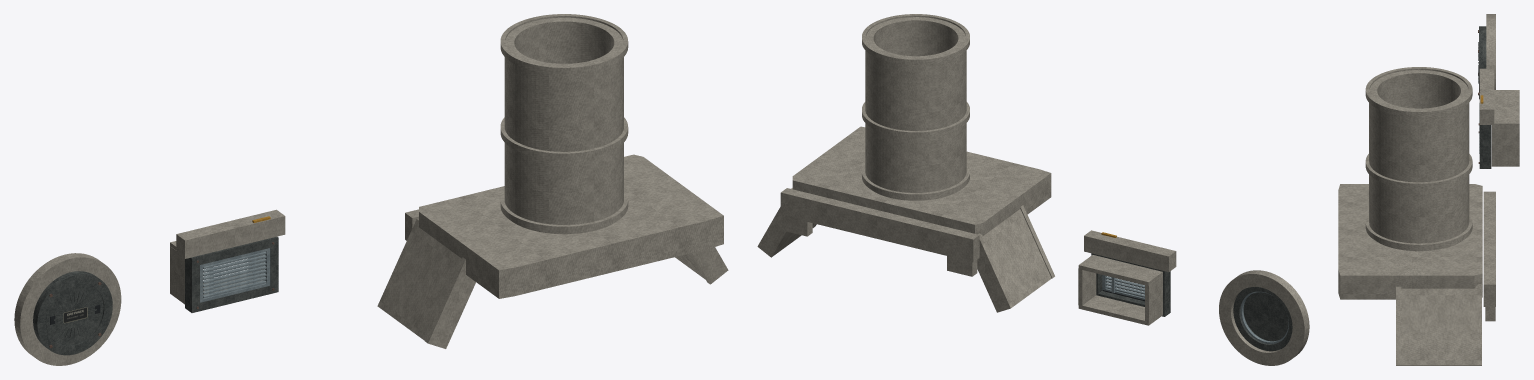
File: PROJECT_Z_Drainage_Manhole_Kit.glb
3 views of the same model, side by side, from view 1: azimuth 30°, elevation 25°; view 2: azimuth 150°, elevation 25°; view 3: azimuth 270°, elevation 25° (orthographic). The views are drawn at different scales.
Visible parts, largest first — view 1: CULVERT_02_HOLLOW_1p30m_Concrete_Pipe_Barrel, CULVERT_01_HOLLOW_Precast_Headwall_Round_Opening, CULVERT_04_Left_Splayed_Wingwall, MANHOLE_01_Precast_Concrete_Setting_Collar, DRAIN_06_Separate_Concrete_Edge_Curb, DRAIN_04_REMOVABLE_Slotted_Grille__PIVOT_CENTER, DRAIN_01_Cast_Iron_Recessed_Seat_Frame, MANHOLE_02_Cast_Iron_Rim_Frame, MANHOLE_05_REMOVABLE_Cast_Iron_Cover__PIVOT_CENTER, CULVERT_03_Pipe_Collar_03, CULVERT_06_Left_Wingwall_Coping, CULVERT_03_Pipe_Collar_01 (+4 smaller); view 2: CULVERT_02_HOLLOW_1p30m_Concrete_Pipe_Barrel, CULVERT_01_HOLLOW_Precast_Headwall_Round_Opening, CULVERT_08_Concrete_Headwall_Toe_Foundation, CULVERT_04_Left_Splayed_Wingwall, MANHOLE_01_Precast_Concrete_Setting_Collar, DRAIN_02_Concrete_Catchpit_Walls, DRAIN_06_Separate_Concrete_Edge_Curb, MANHOLE_05_REMOVABLE_Cast_Iron_Cover__PIVOT_CENTER, CULVERT_03_Pipe_Collar_03, MANHOLE_02_Cast_Iron_Rim_Frame, CULVERT_03_Pipe_Collar_02, CULVERT_03_Pipe_Collar_01 (+3 smaller); view 3: CULVERT_02_HOLLOW_1p30m_Concrete_Pipe_Barrel, CULVERT_01_HOLLOW_Precast_Headwall_Round_Opening, CULVERT_05_Right_Splayed_Wingwall, DRAIN_02_Concrete_Catchpit_Walls, CULVERT_08_Concrete_Headwall_Toe_Foundation, CULVERT_03_Pipe_Collar_03, CULVERT_03_Pipe_Collar_01, CULVERT_03_Pipe_Collar_02, DRAIN_06_Separate_Concrete_Edge_Curb, MANHOLE_01_Precast_Concrete_Setting_Collar, DRAIN_01_Cast_Iron_Recessed_Seat_Frame, CULVERT_07_Right_Wingwall_Coping (+1 smaller).
Boxes of the visible parts, x1=… form: CULVERT_02_HOLLOW_1p30m_Concrete_Pipe_Barrel: x1=504, y1=17, x2=623, y2=234; CULVERT_01_HOLLOW_Precast_Headwall_Round_Opening: x1=419, y1=154, x2=723, y2=298; CULVERT_04_Left_Splayed_Wingwall: x1=377, y1=219, x2=461, y2=340; MANHOLE_01_Precast_Concrete_Setting_Collar: x1=14, y1=253, x2=121, y2=365; DRAIN_06_Separate_Concrete_Edge_Curb: x1=176, y1=209, x2=285, y2=258; DRAIN_04_REMOVABLE_Slotted_Grille__PIVOT_CENTER: x1=200, y1=248, x2=270, y2=302; DRAIN_01_Cast_Iron_Recessed_Seat_Frame: x1=185, y1=236, x2=278, y2=312; MANHOLE_02_Cast_Iron_Rim_Frame: x1=33, y1=271, x2=112, y2=355; MANHOLE_05_REMOVABLE_Cast_Iron_Cover__PIVOT_CENTER: x1=45, y1=283, x2=103, y2=345; CULVERT_03_Pipe_Collar_03: x1=500, y1=14, x2=628, y2=74; CULVERT_06_Left_Wingwall_Coping: x1=425, y1=257, x2=475, y2=348; CULVERT_03_Pipe_Collar_01: x1=500, y1=190, x2=628, y2=232; CULVERT_02_HOLLOW_1p30m_Concrete_Pipe_Barrel: x1=865, y1=17, x2=966, y2=200; CULVERT_01_HOLLOW_Precast_Headwall_Round_Opening: x1=792, y1=126, x2=1051, y2=235; CULVERT_08_Concrete_Headwall_Toe_Foundation: x1=780, y1=188, x2=979, y2=276; CULVERT_04_Left_Splayed_Wingwall: x1=977, y1=209, x2=1051, y2=312; MANHOLE_01_Precast_Concrete_Setting_Collar: x1=1219, y1=270, x2=1309, y2=365; DRAIN_02_Concrete_Catchpit_Walls: x1=1078, y1=255, x2=1162, y2=325; DRAIN_06_Separate_Concrete_Edge_Curb: x1=1084, y1=230, x2=1176, y2=272; MANHOLE_05_REMOVABLE_Cast_Iron_Cover__PIVOT_CENTER: x1=1243, y1=292, x2=1288, y2=341; CULVERT_03_Pipe_Collar_03: x1=862, y1=14, x2=969, y2=64; MANHOLE_02_Cast_Iron_Rim_Frame: x1=1233, y1=287, x2=1292, y2=351; CULVERT_03_Pipe_Collar_02: x1=862, y1=102, x2=969, y2=137; CULVERT_03_Pipe_Collar_01: x1=862, y1=164, x2=969, y2=199; CULVERT_02_HOLLOW_1p30m_Concrete_Pipe_Barrel: x1=1369, y1=70, x2=1469, y2=251; CULVERT_01_HOLLOW_Precast_Headwall_Round_Opening: x1=1338, y1=184, x2=1482, y2=299; CULVERT_05_Right_Splayed_Wingwall: x1=1401, y1=284, x2=1481, y2=365; DRAIN_02_Concrete_Catchpit_Walls: x1=1491, y1=90, x2=1519, y2=166; CULVERT_08_Concrete_Headwall_Toe_Foundation: x1=1483, y1=191, x2=1495, y2=321; CULVERT_03_Pipe_Collar_03: x1=1365, y1=67, x2=1472, y2=117; CULVERT_03_Pipe_Collar_01: x1=1365, y1=215, x2=1472, y2=250; CULVERT_03_Pipe_Collar_02: x1=1365, y1=154, x2=1472, y2=188; DRAIN_06_Separate_Concrete_Edge_Curb: x1=1479, y1=68, x2=1494, y2=124; MANHOLE_01_Precast_Concrete_Setting_Collar: x1=1486, y1=14, x2=1495, y2=89; DRAIN_01_Cast_Iron_Recessed_Seat_Frame: x1=1479, y1=125, x2=1491, y2=168; CULVERT_07_Right_Wingwall_Coping: x1=1396, y1=286, x2=1401, y2=365.
Bounding box in the file's own units: 8.15 × 3.16 × 2.33.
8 materials, 8 textured.
